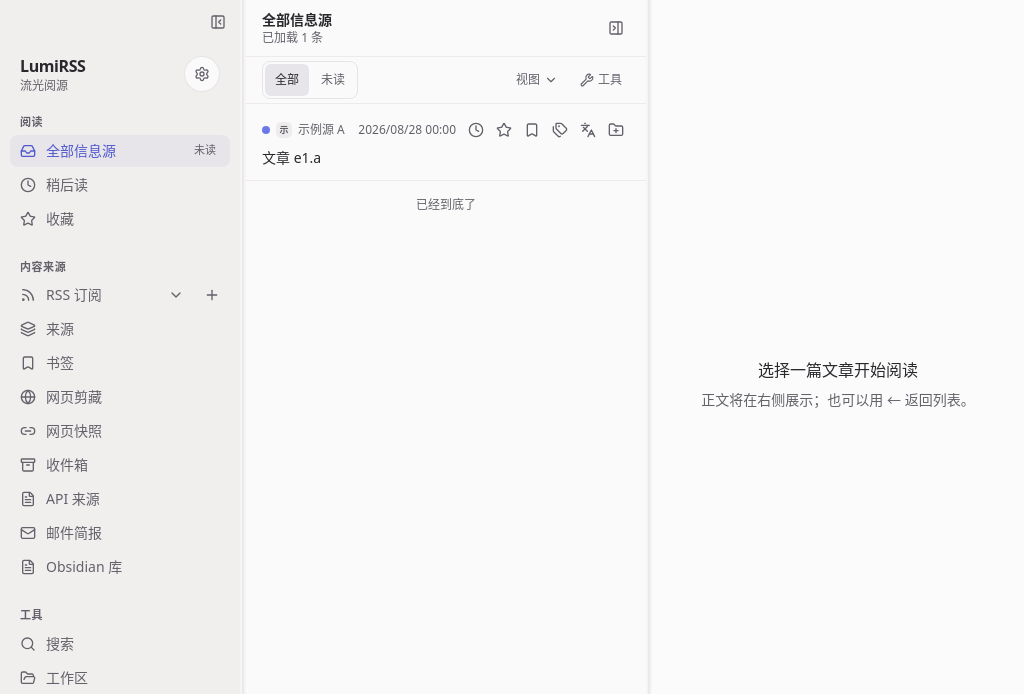
it: Test J — Feed 切换 › 点击 feed → 请求带 feedUrl；点击 All Feeds → 恢复无 feedUrl
The width and height of the screenshot is (1024, 694).
Check: the button "文章 e1.a" is shown, box left=262, top=148, right=630, bottom=168
What coordinates should you click on to do the following:
click the button named "展开 RSS 分类"
I would click on:
 (176, 295)
Its box is left=162, top=281, right=190, bottom=309.
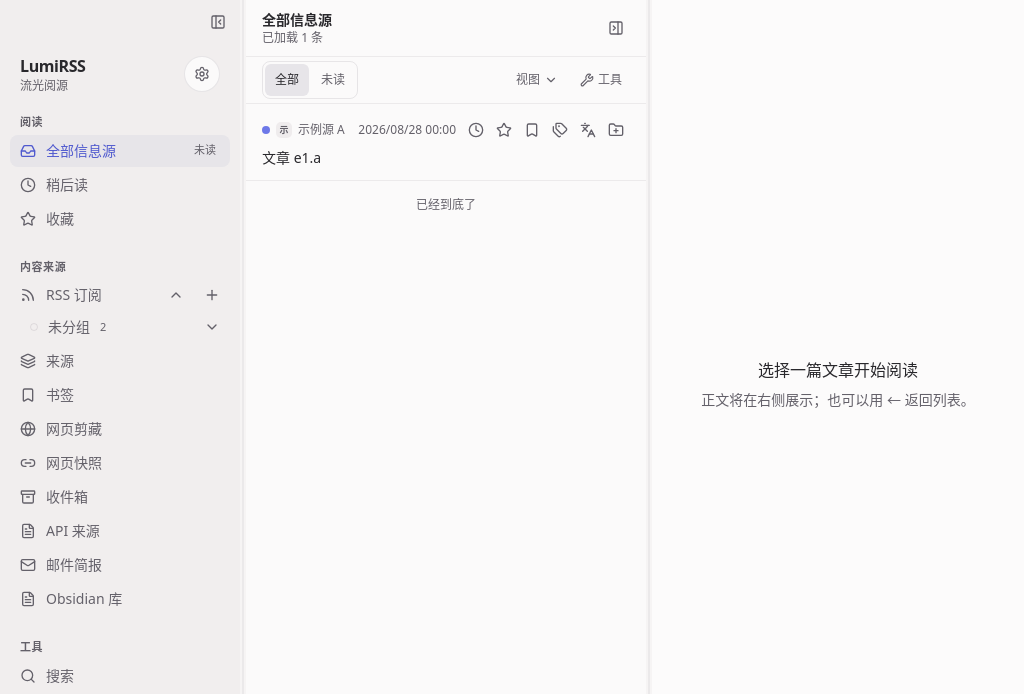
What coordinates should you click on to do the following:
click the button named "展开 未分组"
I would click on:
 (212, 327)
Its box is left=198, top=313, right=226, bottom=341.
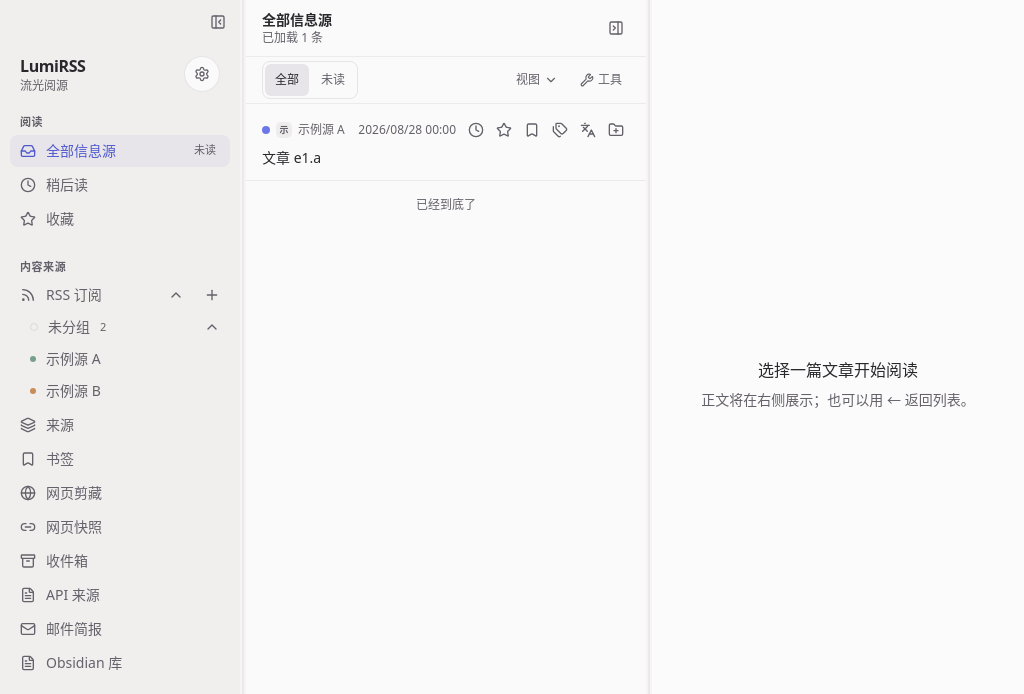
What coordinates should you click on to do the following:
click the button "示例源 A"
I would click on:
 (125, 359)
Its box is left=20, top=343, right=230, bottom=375.
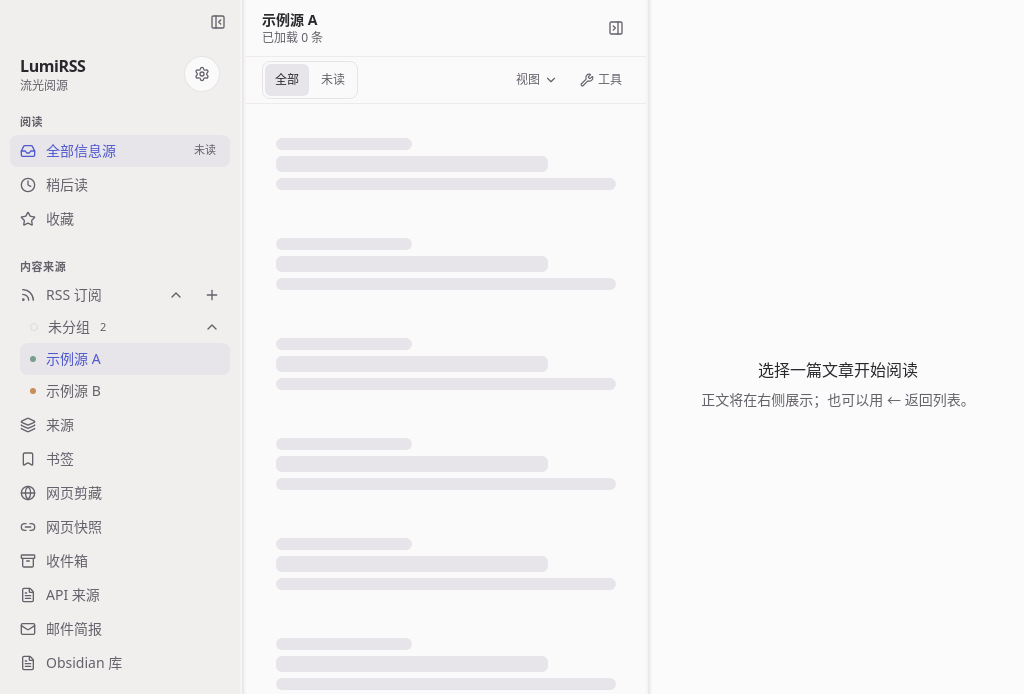
What coordinates should you click on to do the following:
click the button "全部信息源"
I would click on:
 (96, 150)
Its box is left=10, top=134, right=182, bottom=166.
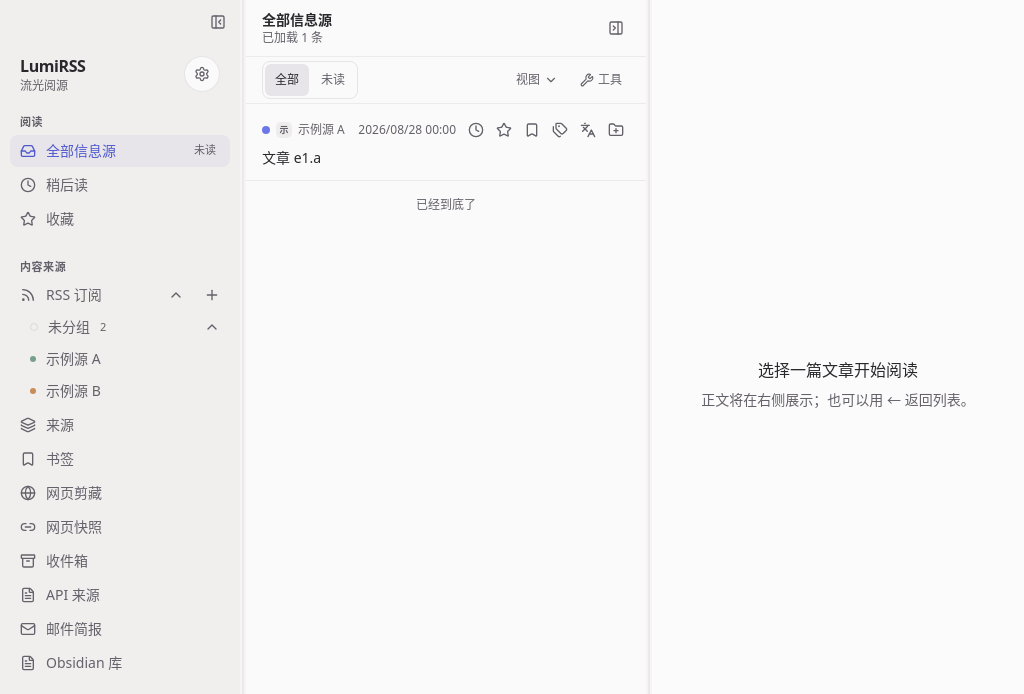
Check: the button "文章 e1.a" is shown, box left=262, top=148, right=630, bottom=168
